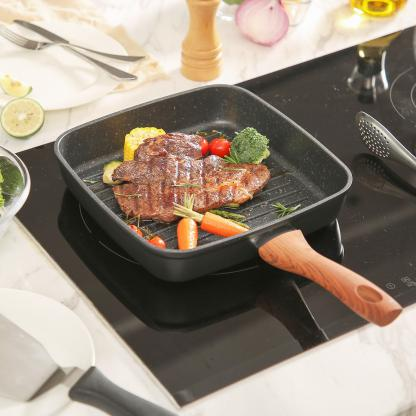Carne: (111, 160, 267, 208), (135, 131, 211, 171)
